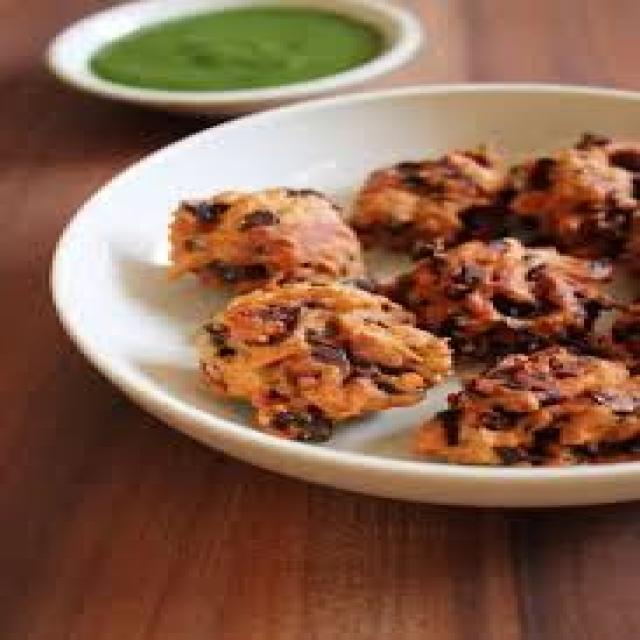BAJI: (171, 135, 637, 465), (203, 284, 448, 438), (171, 193, 357, 289), (350, 149, 497, 249)
